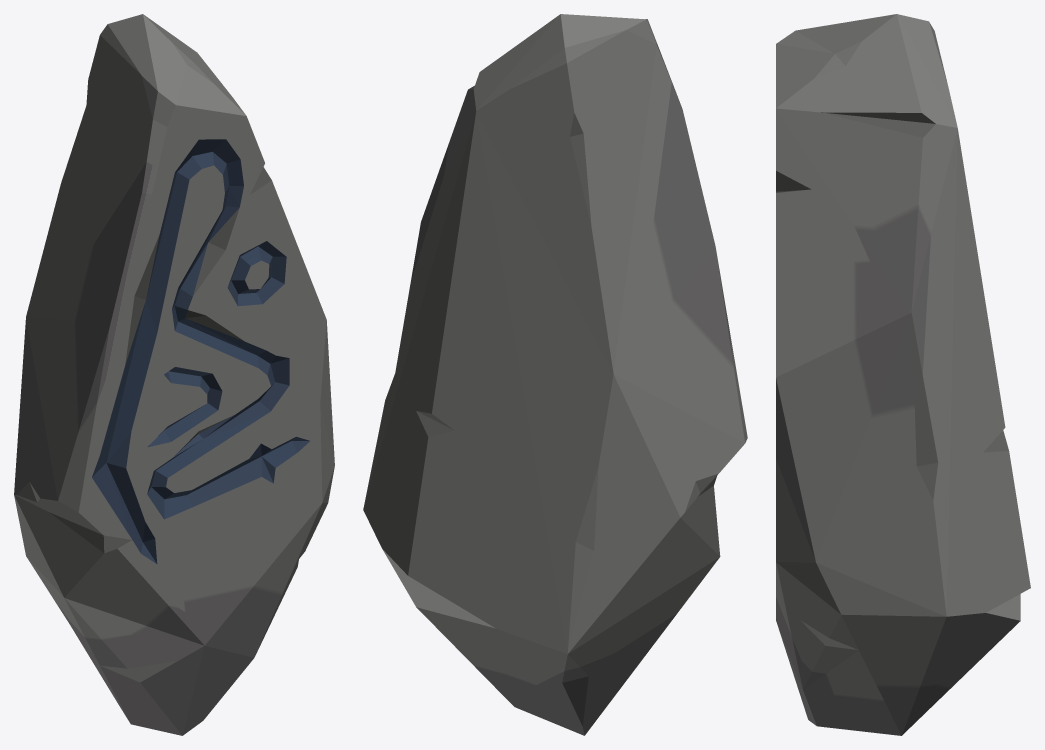
Rendered from SM_Prop_StoneRunes_02.fbx.
3 renders of one model, left to right at view 1: azimuth 30°, elevation 25°; view 2: azimuth 150°, elevation 25°; view 3: azimuth 270°, elevation 25°, orthographic. The views are drawn at different scales.
Parts seen in each view (by area): view 1: SM_Prop_StoneRunes_02; view 2: SM_Prop_StoneRunes_02; view 3: SM_Prop_StoneRunes_02.
Boxes of the visible parts, box(x1,y1,x2,y2) form: SM_Prop_StoneRunes_02: box(14, 14, 334, 735); SM_Prop_StoneRunes_02: box(363, 14, 747, 735); SM_Prop_StoneRunes_02: box(776, 14, 1030, 735).
Bounding box in the file's own units: 138 × 309 × 99.18.
1 material, 1 textured.
